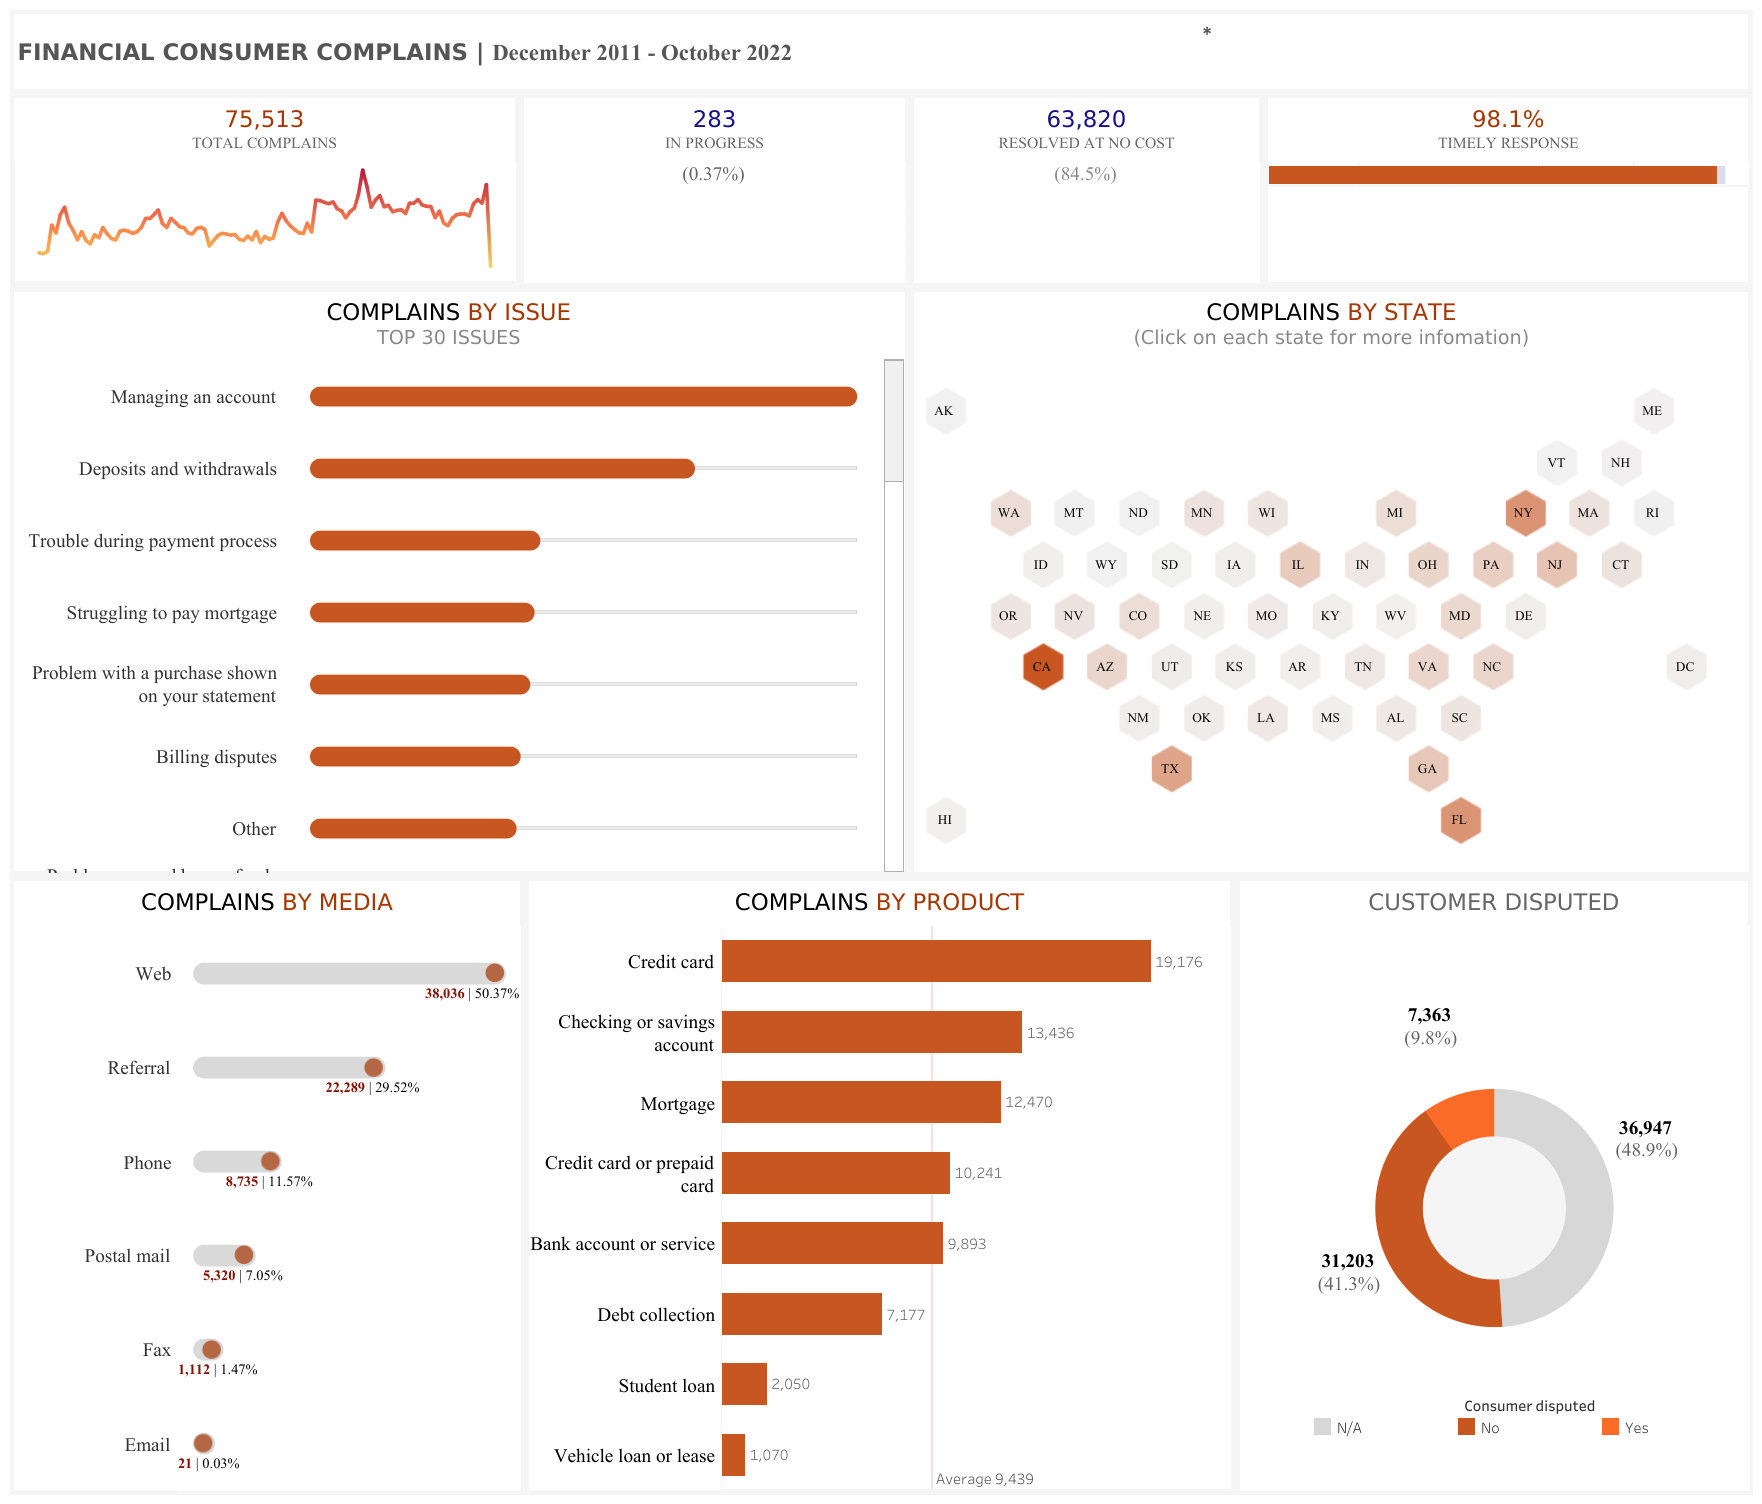

The dashboard page shown, as its layout file describes it:
{"tool":"tableau","page":{"name":"Dashboard 1","canvas":[1469,1254],"ordinal":0},"visuals":[{"type":"text","box":[8,8,1453,70.3]},{"type":"dashboard-object","box":[994,15,24,24]},{"type":"worksheet","title":"TOTAL COMPLAINS","mark":"Automatic","rows":["Financial Consumer Complaints.csv_8A8CC07F06CA48FFA178CD68A4"],"cols":["Date Sumbited"],"box":[8,78.3,425,160.7]},{"type":"worksheet","title":"in process","mark":"Automatic","box":[433,78.3,324.9,160.7]},{"type":"worksheet","title":"resolved no cost","mark":"Automatic","box":[757.9,78.3,295,160.7]},{"type":"worksheet","title":"timely response","mark":"Automatic","box":[1052.9,78.3,408,160.7]},{"type":"worksheet","title":"by issue","mark":"Automatic","rows":["Issue"],"cols":["Calculation_523543493742342152"],"box":[8,239,749.7,490.7]},{"type":"worksheet","title":"state","mark":"Automatic","rows":["Row"],"cols":["Column"],"box":[757.7,239,703.3,490.7]},{"type":"worksheet","title":"by media","mark":"Automatic","rows":["Submitted via"],"cols":["Financial Consumer Complaints.csv_8A8CC07F06CA48FFA178CD68A4"],"box":[8,729.7,429,516.3]},{"type":"worksheet","title":"by product","mark":"Automatic","rows":["Product"],"cols":["Financial Consumer Complaints.csv_8A8CC07F06CA48FFA178CD68A4"],"box":[437,729.7,592,516.3]},{"type":"worksheet","title":"dispute","mark":"Pie","rows":["Calculation_612771061166489609","Calculation_612771061166522379"],"box":[1029,729.7,432,516.3]},{"type":"legend","title":"dispute","param":"[federated.1xyejbf02jmjj910h00x41qucelh].[none:Consumer disputed?:nk]","box":[1092,1160,364,77]}]}

Visuals, with their boxes in screenshot pixels (x1, y1, x2, y2), scaled from the page's 1469x1254 canvas onto the 1762x1504 screenshot:
text: [10,10,1752,94]
dashboard-object: [1192,18,1221,47]
"TOTAL COMPLAINS" worksheet: [10,94,519,287]
"in process" worksheet: [519,94,909,287]
"resolved no cost" worksheet: [909,94,1263,287]
"timely response" worksheet: [1263,94,1752,287]
"by issue" worksheet: [10,287,909,875]
"state" worksheet: [909,287,1752,875]
"by media" worksheet: [10,875,524,1494]
"by product" worksheet: [524,875,1234,1494]
"dispute" worksheet (Pie marks): [1234,875,1752,1494]
"dispute" legend: [1310,1391,1746,1484]
